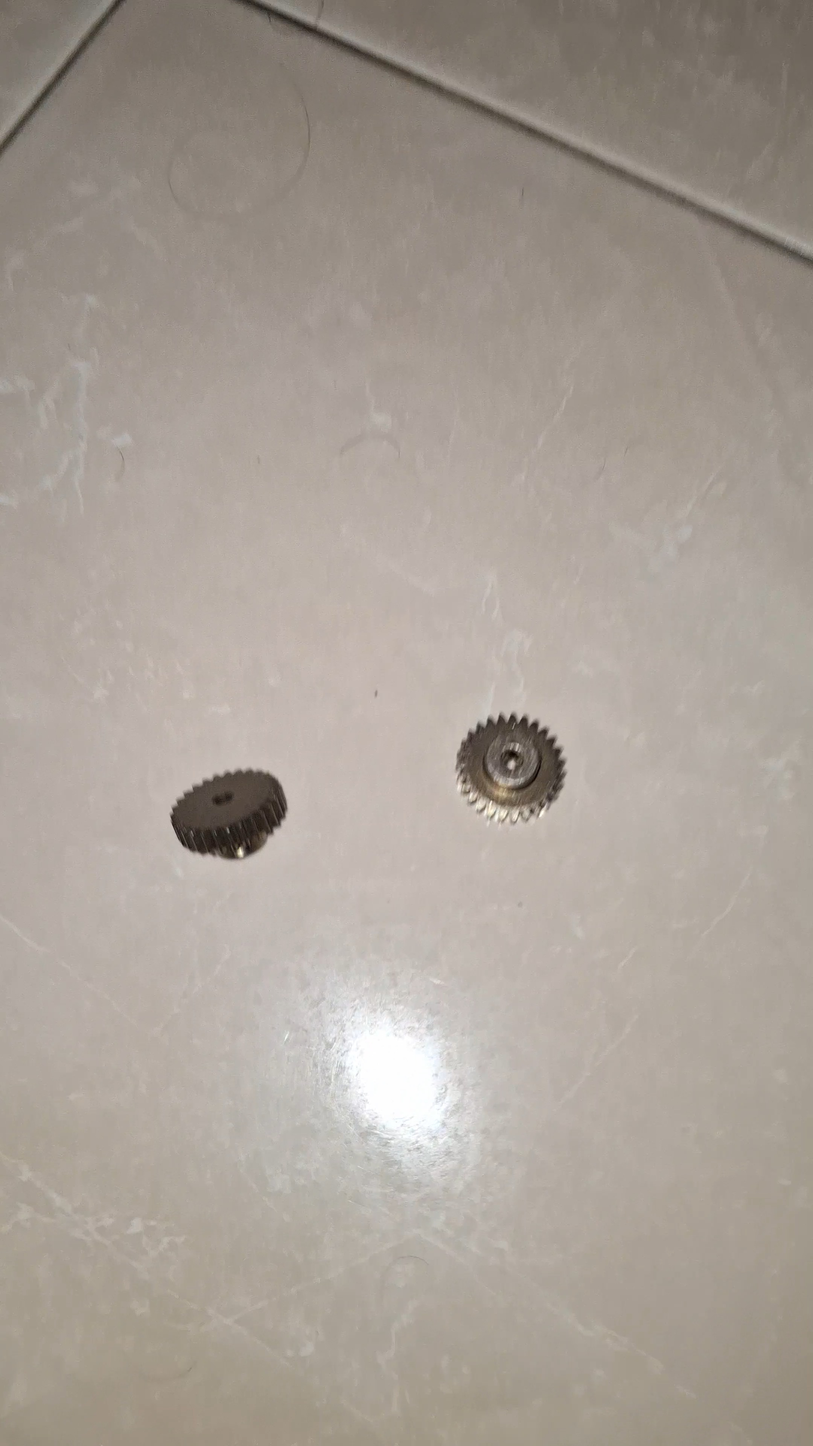spur gear: (457, 714, 565, 822), (172, 770, 286, 858)
